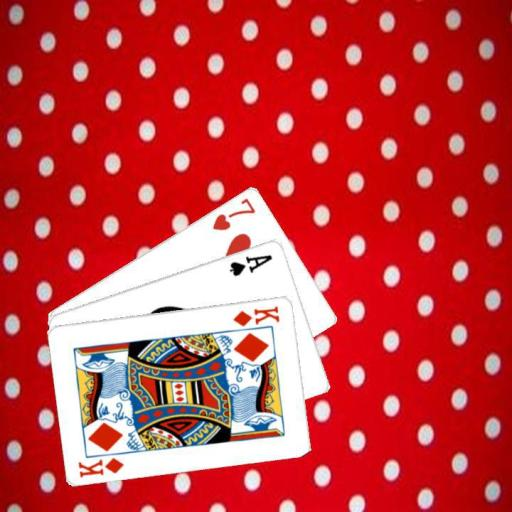7H: (209, 194, 257, 232)
AS: (226, 251, 274, 277)
KD: (230, 302, 282, 328), (76, 454, 126, 479)
